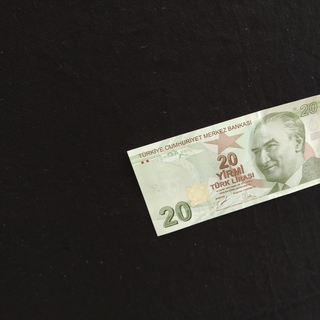20TLFront: (126, 92, 320, 235)
